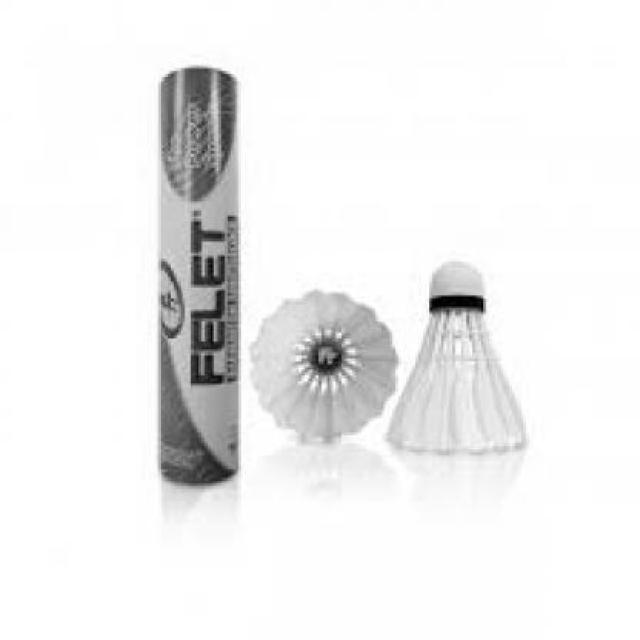Shuttlecock: (388, 254, 530, 454)
